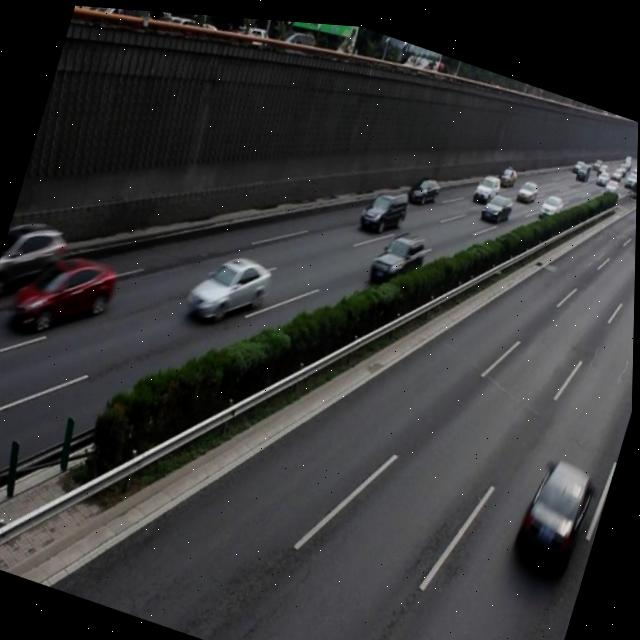car: (8, 234, 121, 352), (509, 440, 599, 573), (184, 236, 275, 331), (0, 207, 73, 305), (366, 215, 429, 289)
truck: (357, 173, 412, 233)
